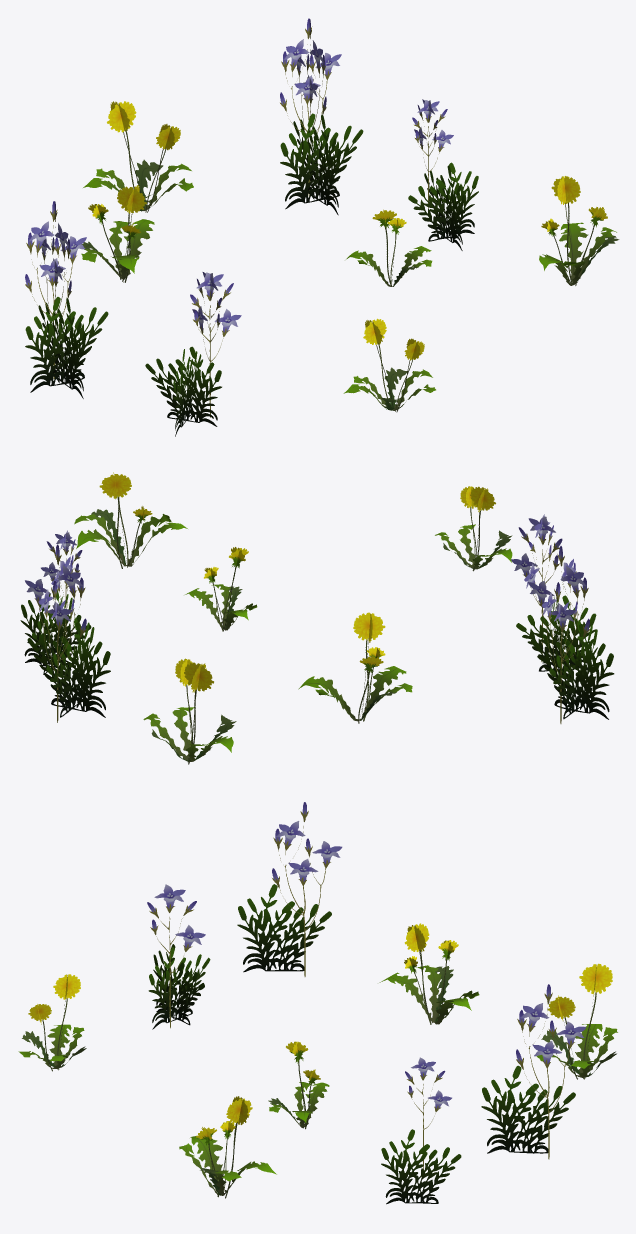
The model's file is flowers2.glb.
3 views of the same model, one above another, from view 1: azimuth 30°, elevation 25°; view 2: azimuth 150°, elevation 25°; view 3: azimuth 270°, elevation 25° (orthographic).
Visible parts, largest first — view 1: flowers(noColl)(light); view 2: flowers(noColl)(light); view 3: flowers(noColl)(light).
Part boxes in pixels (x1=…): flowers(noColl)(light): x1=25, y1=18, x2=619, y2=436; flowers(noColl)(light): x1=20, y1=472, x2=614, y2=764; flowers(noColl)(light): x1=18, y1=802, x2=617, y2=1204.
Bounding box in the file's own units: 8.53 × 2.78 × 7.92.
Materials: 1 (1 with a texture image).
